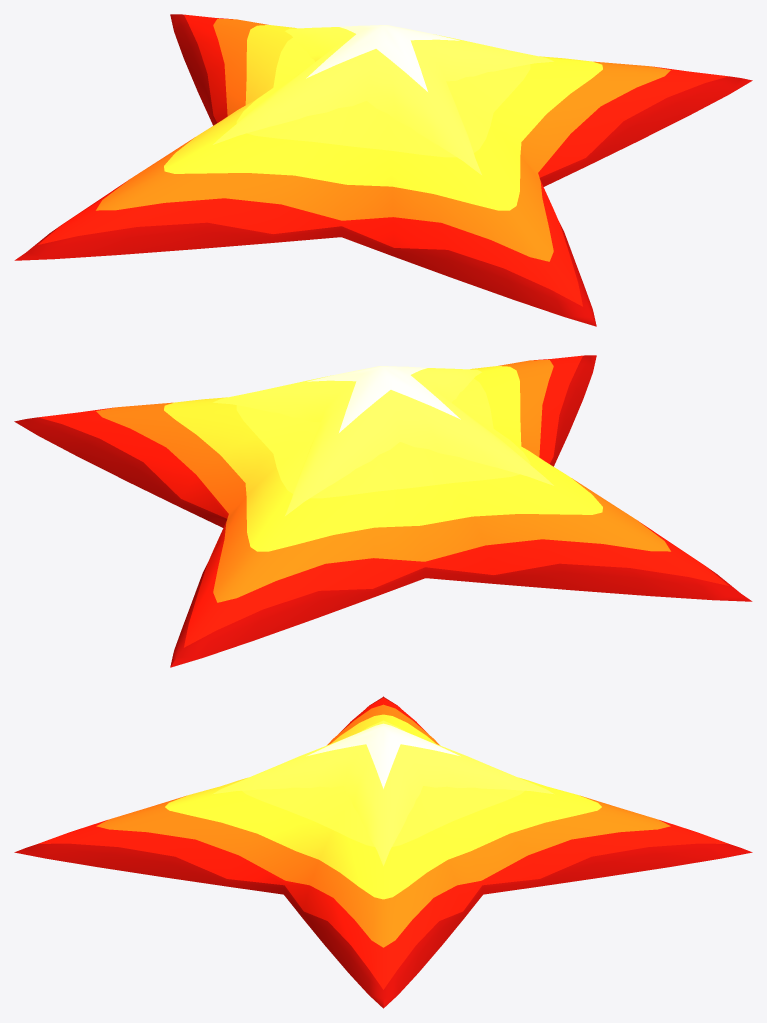
The model's file is shot_starburst.glb.
3 renders of one model, top to bottom at view 1: azimuth 30°, elevation 25°; view 2: azimuth 150°, elevation 25°; view 3: azimuth 270°, elevation 25°, orthographic. The views are drawn at different scales.
Parts seen in each view (by area): view 1: shot_starburst_fire, shot_starburst_core; view 2: shot_starburst_fire, shot_starburst_core; view 3: shot_starburst_fire, shot_starburst_core.
Part boxes in pixels (x1,y1,x2,y2): shot_starburst_fire: [14, 14, 752, 326]; shot_starburst_core: [213, 25, 553, 174]; shot_starburst_fire: [14, 355, 752, 667]; shot_starburst_core: [213, 366, 553, 515]; shot_starburst_fire: [14, 696, 752, 1008]; shot_starburst_core: [212, 720, 554, 866].
Bounding box in the file's own units: 12 × 2.25 × 12.
